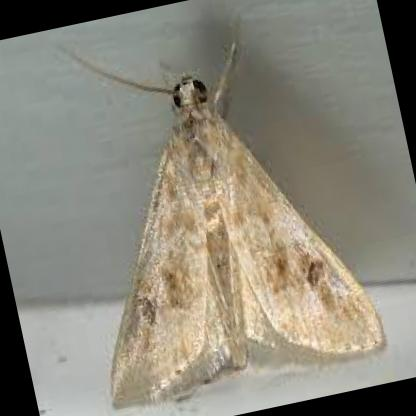Hellula undalis: (54, 21, 384, 405)
